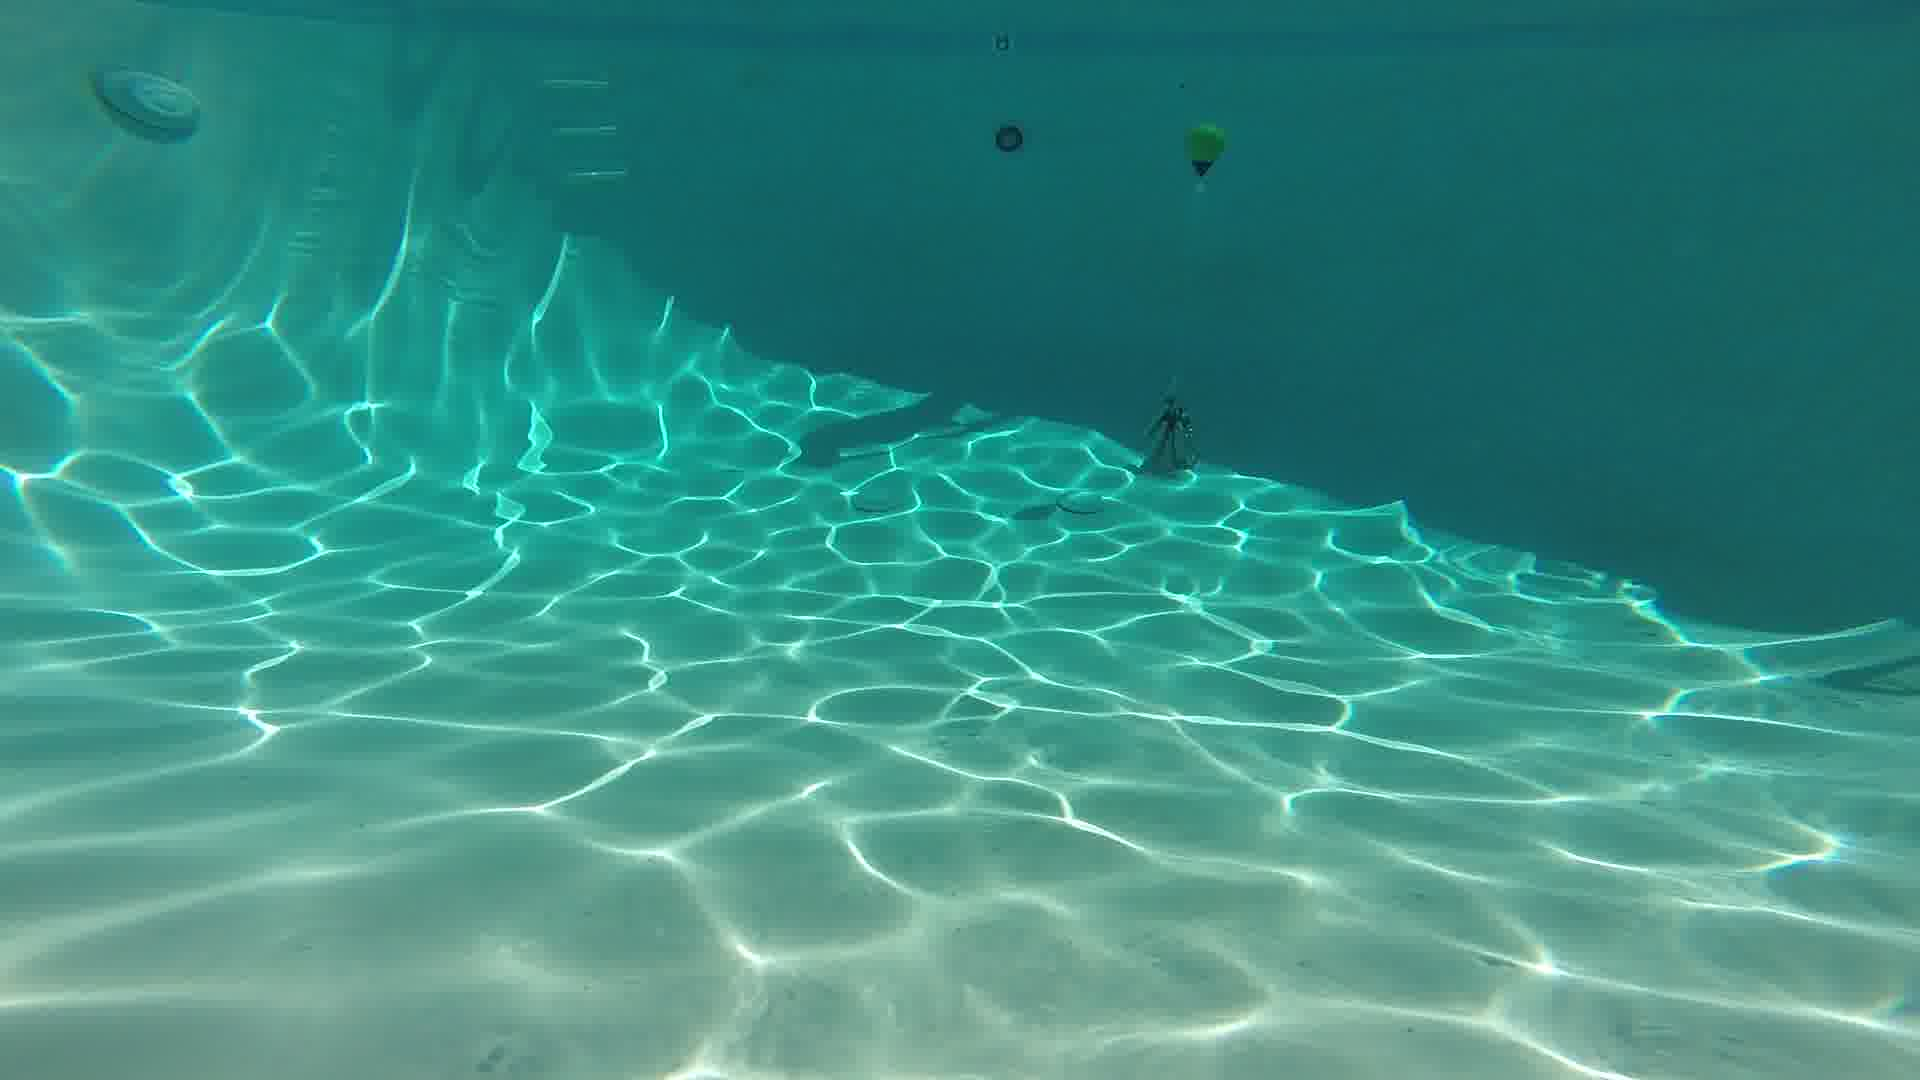yellow_buoy: (1185, 125, 1225, 175)
